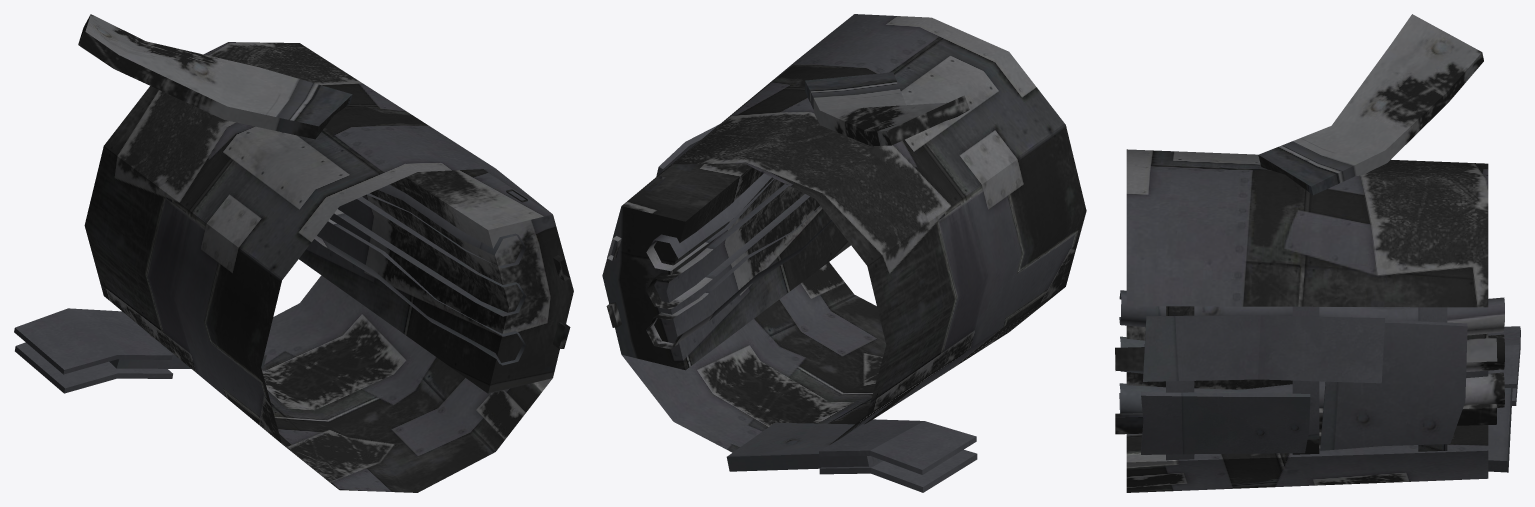
File: HCD4.fbx
3 views of the same model, side by side, from view 1: azimuth 30°, elevation 25°; view 2: azimuth 150°, elevation 25°; view 3: azimuth 270°, elevation 25° (orthographic). The views are drawn at different scales.
Visible parts, largest first — view 1: fourD; view 2: fourD; view 3: fourD.
Boxes of the visible parts, box(x1,y1,x2,y2) form: fourD: box(14, 14, 573, 492); fourD: box(602, 14, 1086, 492); fourD: box(1115, 14, 1520, 492).
Bounding box in the file's own units: 3746 × 3964 × 3854.
1 material, 1 textured.
